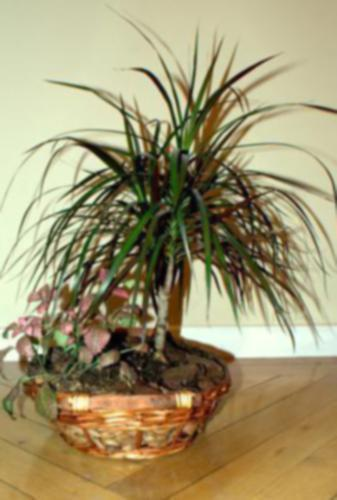Matera: (0, 15, 337, 465)
